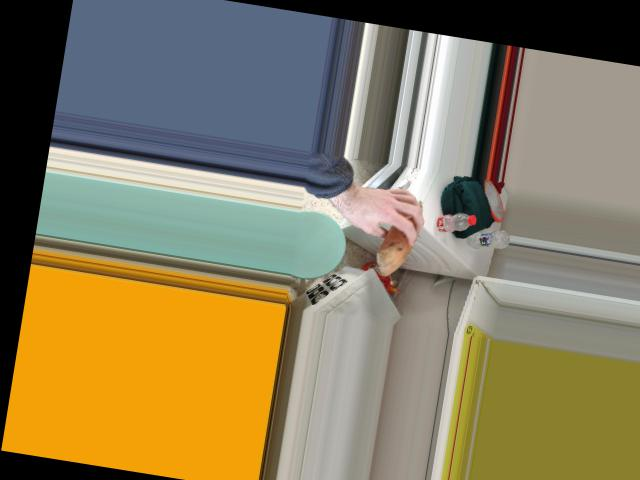sweet_potato: (376, 191, 426, 277)
